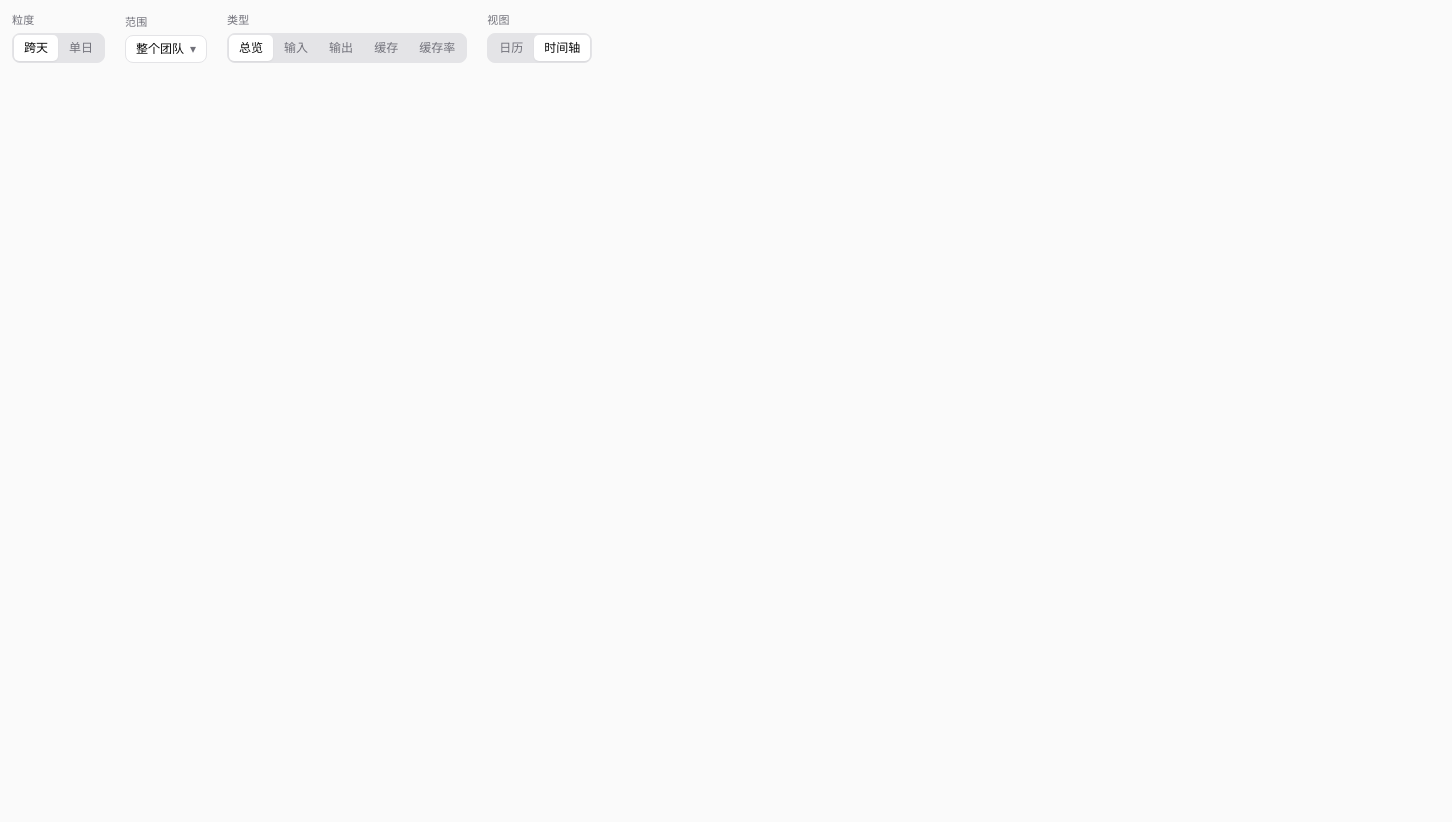
Scenario: TokenStatsControls —— 控制条 state 管理 › outside-close：mousedown 容器外 → 列表关闭
Click the button "整个团队 ▾" at (166, 48), box [125,34,207,62]
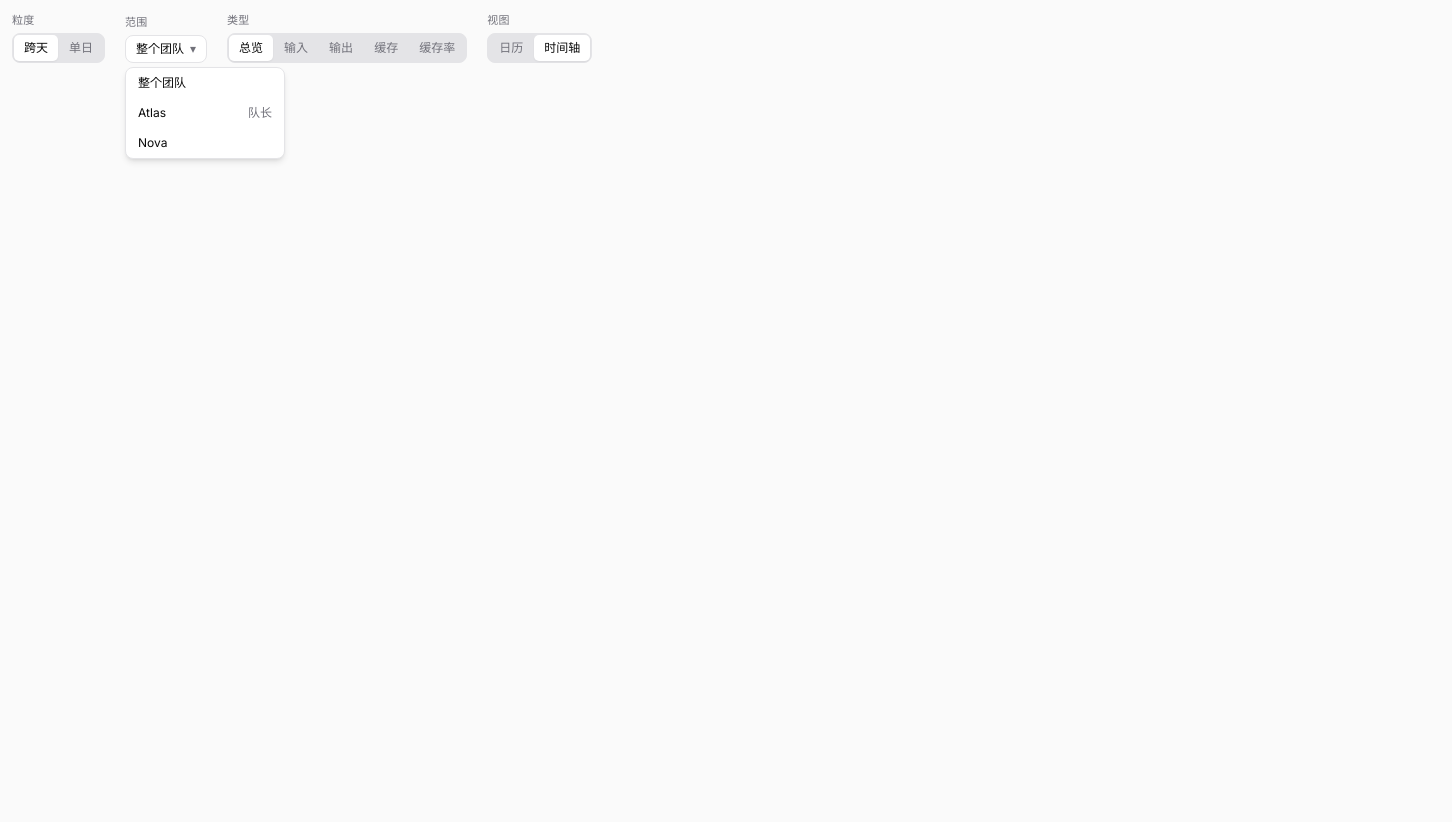
Check: the button "Nova" is shown, box [126,128,284,158]
Press the mouse on the element that starts with "整个团队" at (732, 417), box [12,12,1451,821]
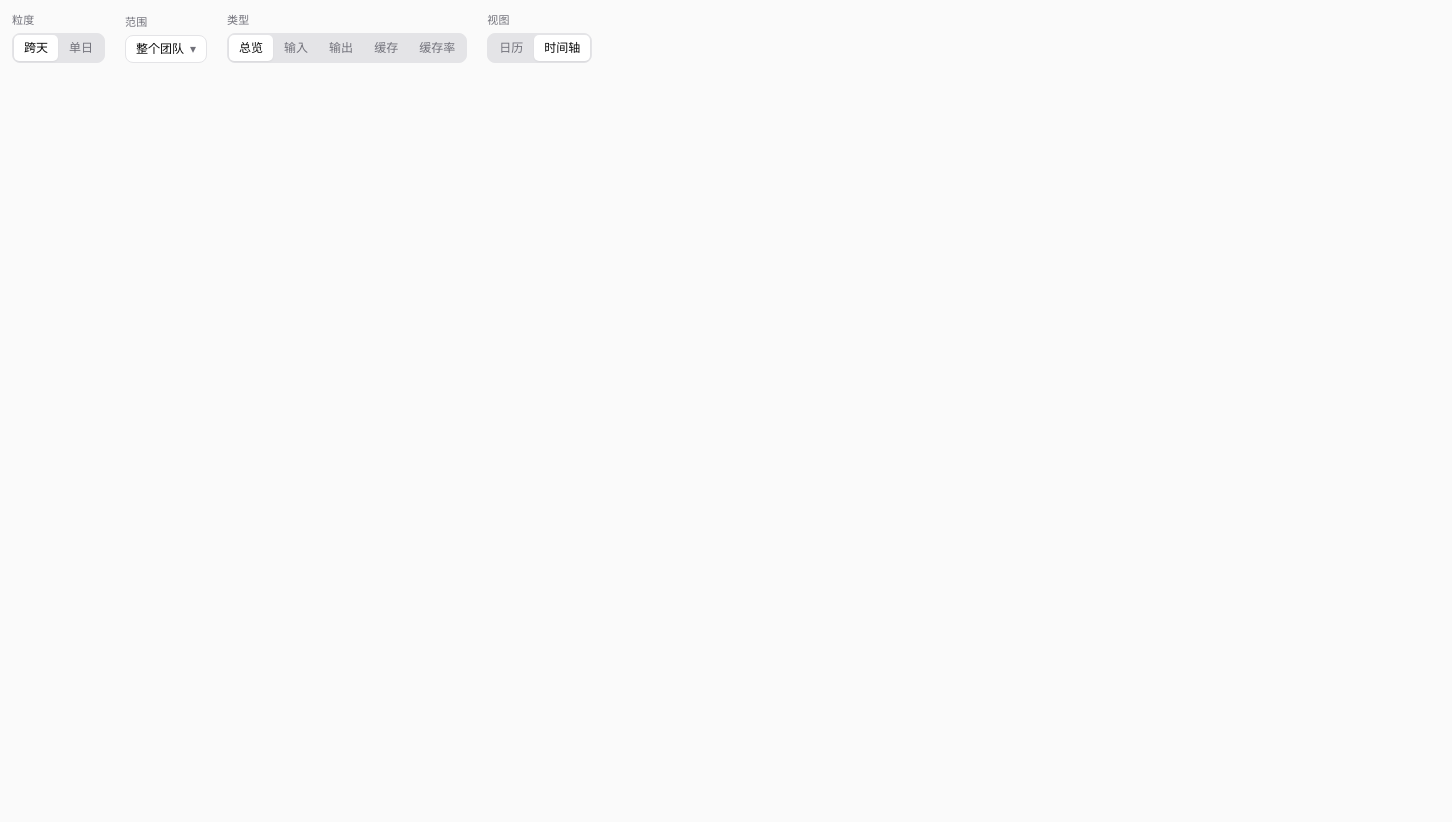
Check: the button "Nova" is gone
